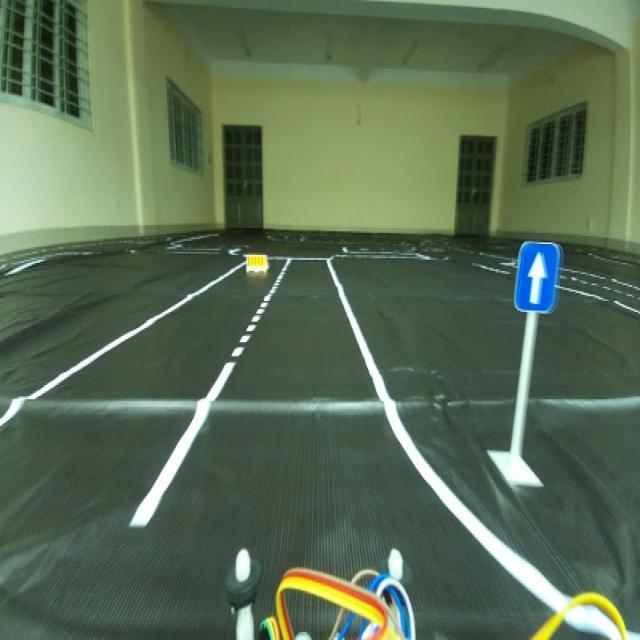onewayroad: (512, 233, 565, 317)
roadblock: (243, 246, 269, 280)
